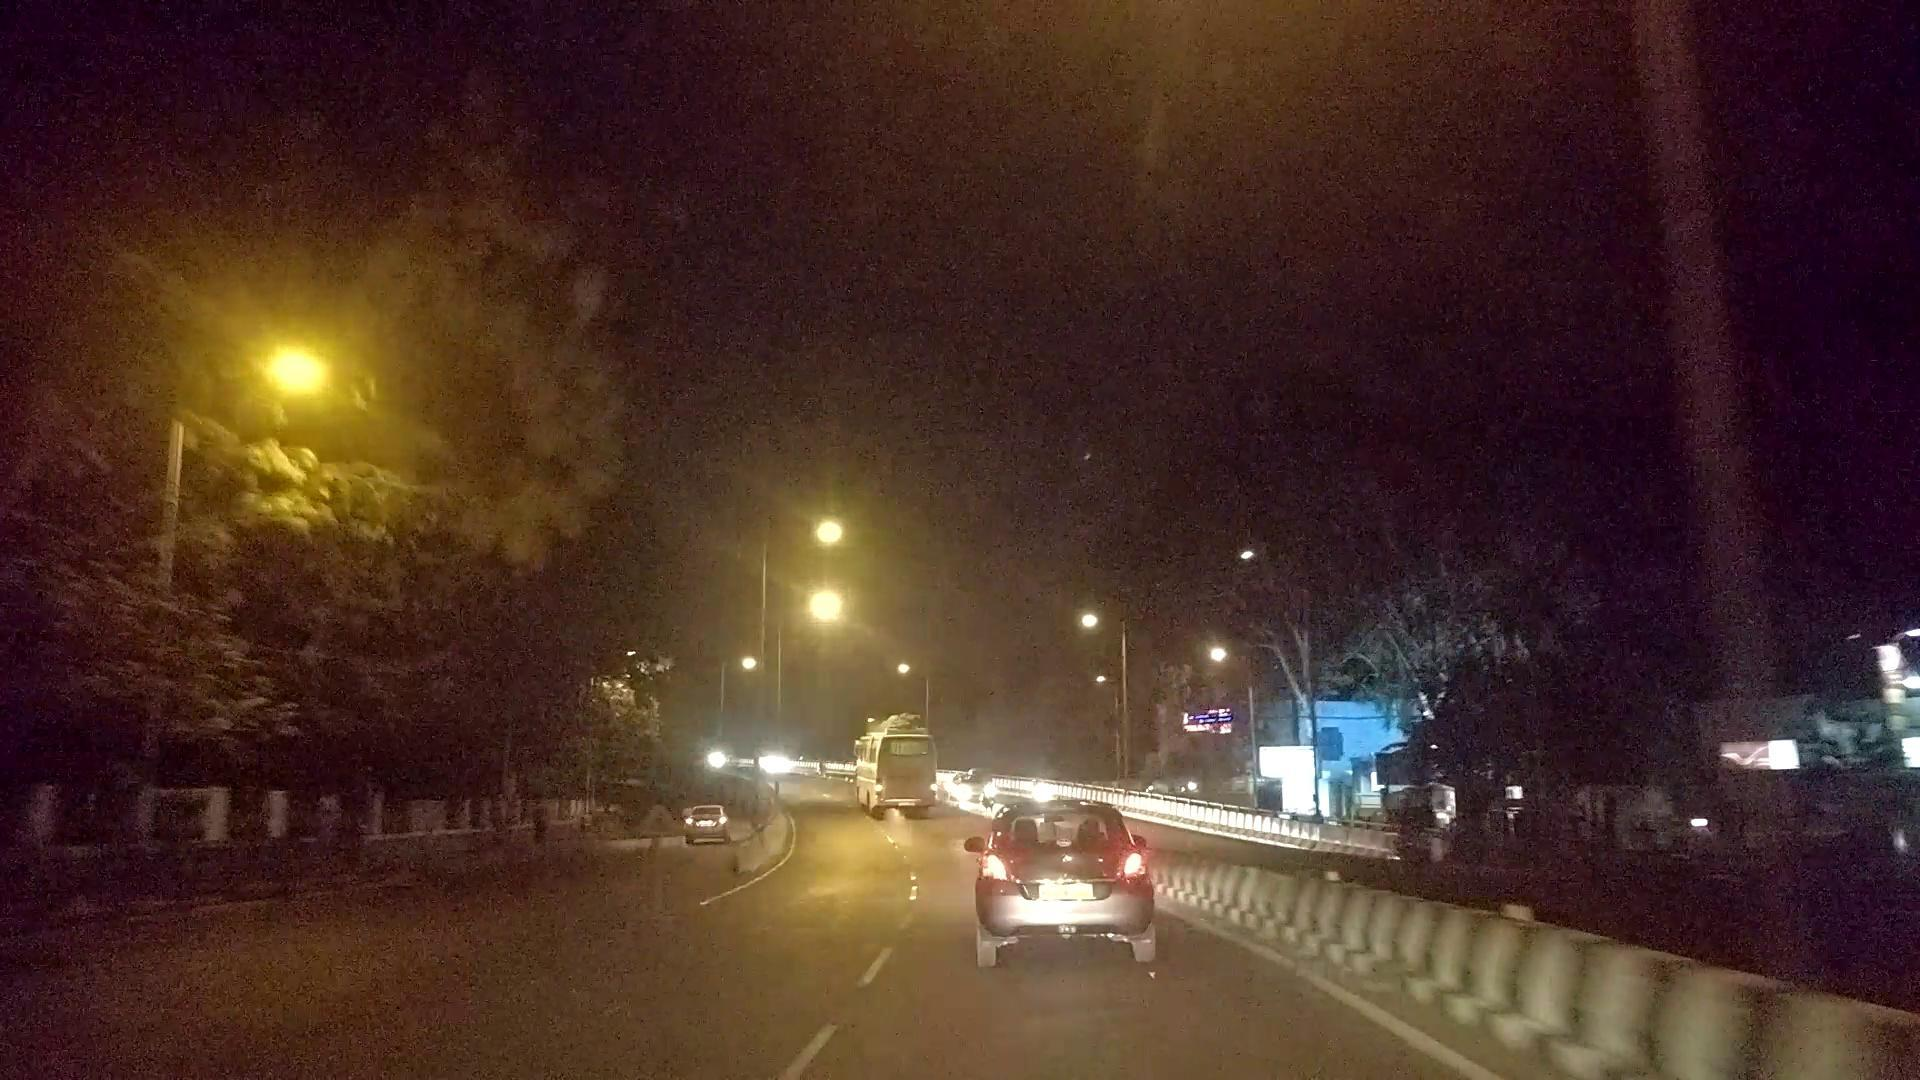on: (80, 243, 471, 579), (790, 411, 959, 756)
